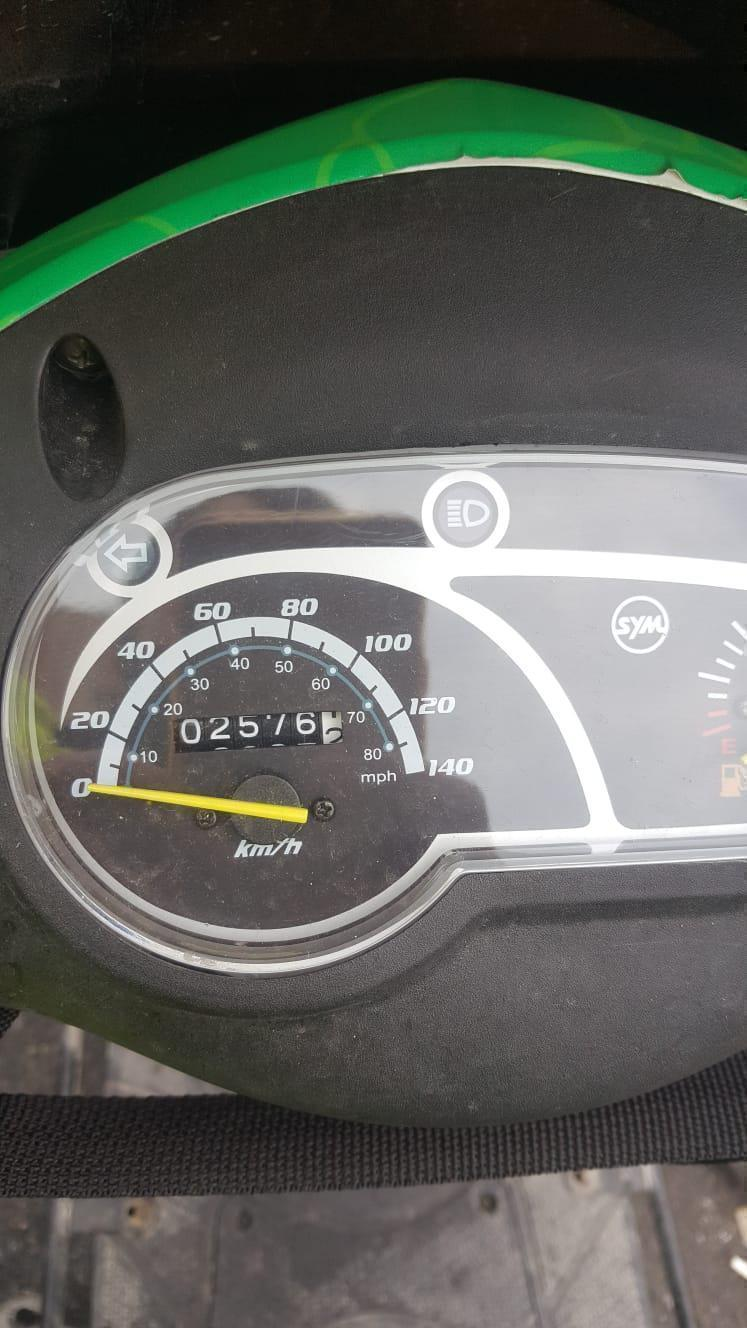0: (180, 716, 202, 745)
2: (207, 713, 233, 743), (324, 724, 345, 747)
5: (238, 712, 263, 738)
6: (295, 711, 318, 736)
7: (264, 711, 288, 736)
odometer: (171, 709, 346, 751)
